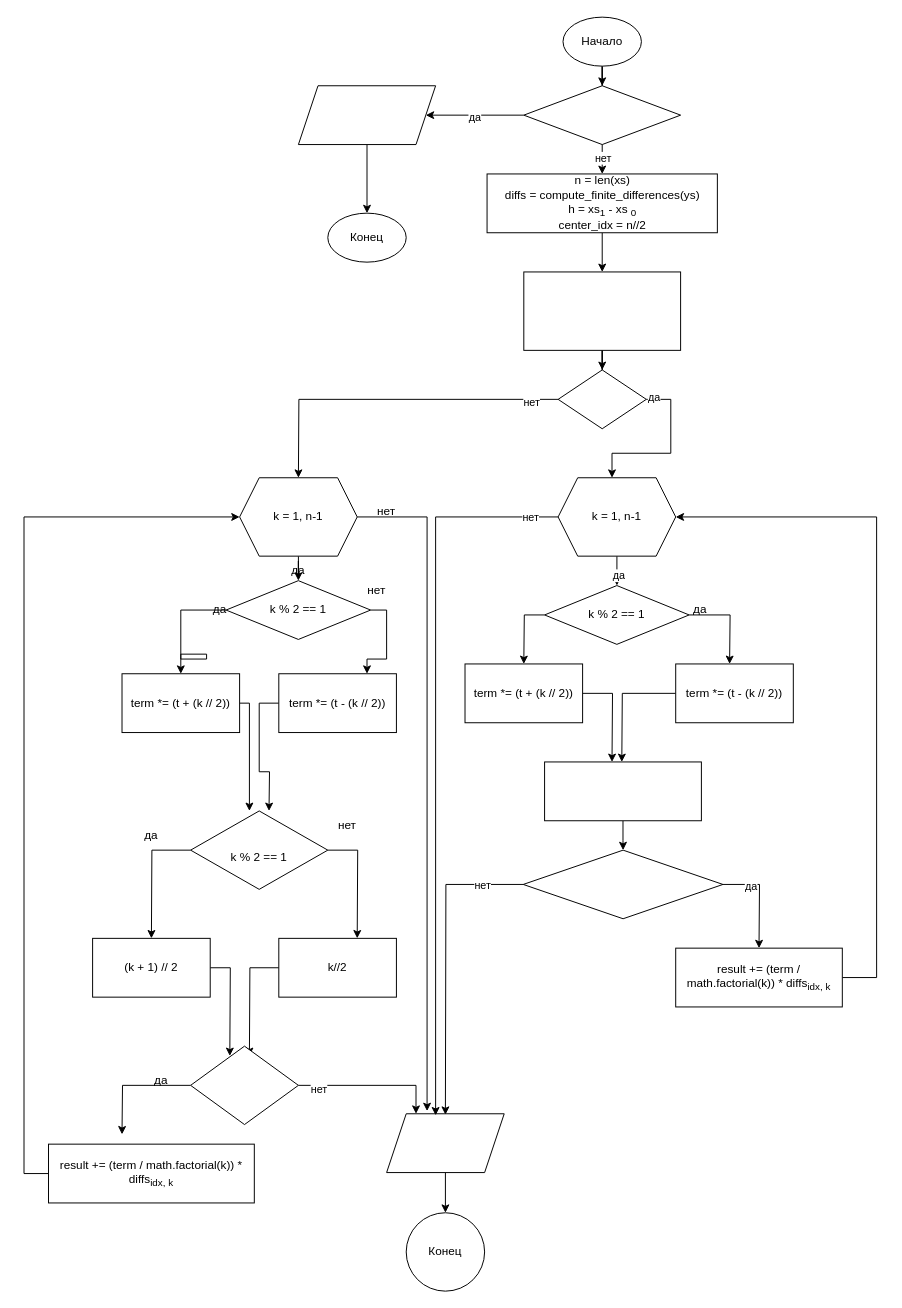
This 902x1308 diagram has some shape labels left out. The shapes that lost their labels are listed below. From the top down, each one's centre as x and y in pixels, then its label:
[366,115]: ValueError("Нужен равномерный шаг")
[602,115]: not is_equidistant(xs)
[602,310]: t = (x - xs center_idx ) / h result = diffs center_idx, 0 term = 1.0
[601,399]: t >= 0
[622,791]: offset = k // 2 idx = center_idx - offset
[622,884]: 0 <= idx < n-k-1
[244,1085]: 0<=idx< n-k-1
[445,1143]: result
